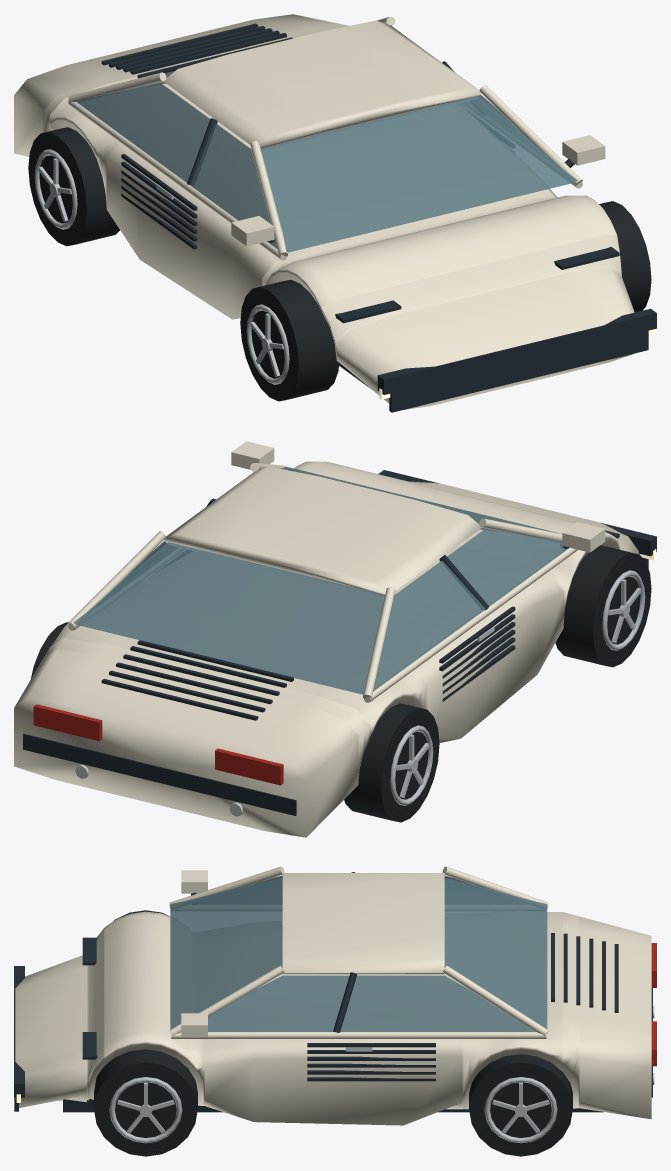
Rendered from testa.glb.
3 views of the same model, one above another, from view 1: azimuth 30°, elevation 25°; view 2: azimuth 150°, elevation 25°; view 3: azimuth 270°, elevation 25° (orthographic). The views are drawn at different scales.
Visible parts, largest first — view 1: exterior-paint, windows, black-trim, tire-front-left, tire-rear-left, tire-front-right, rim-rear-left, rim-front-left; view 2: exterior-paint, windows, black-trim, tire-front-left, tire-rear-left, taillights, rim-front-left, rim-rear-left; view 3: exterior-paint, windows, black-trim, tire-front-right, tire-rear-right, rim-rear-right, rim-front-right, taillights.
Part boxes in pixels (box(x1,y1,x2,y2)): exterior-paint: box(14, 14, 634, 409); windows: box(74, 70, 577, 252); black-trim: box(101, 23, 656, 412); tire-front-left: box(240, 279, 339, 401); tire-rear-left: box(28, 127, 119, 246); tire-front-right: box(599, 201, 651, 312); rim-rear-left: box(34, 149, 77, 229); rim-front-left: box(246, 304, 289, 384); exterior-paint: box(14, 441, 640, 837); windows: box(73, 466, 568, 694); black-trim: box(23, 470, 656, 815); tire-front-left: box(555, 545, 651, 667); tire-rear-left: box(344, 703, 439, 822); taillights: box(33, 704, 283, 785); rim-front-left: box(602, 570, 645, 650); rim-rear-left: box(390, 725, 433, 805); exterior-paint: box(15, 866, 651, 1125); windows: box(170, 875, 547, 1031); black-trim: box(14, 872, 652, 1112); tire-front-right: box(94, 1049, 197, 1156); tire-rear-right: box(469, 1054, 572, 1156); rim-rear-right: box(484, 1077, 557, 1143); rim-front-right: box(109, 1077, 182, 1143); taillights: box(651, 943, 656, 1066).
Size of the model in its own units: 2.21 by 1.1 by 3.84.
